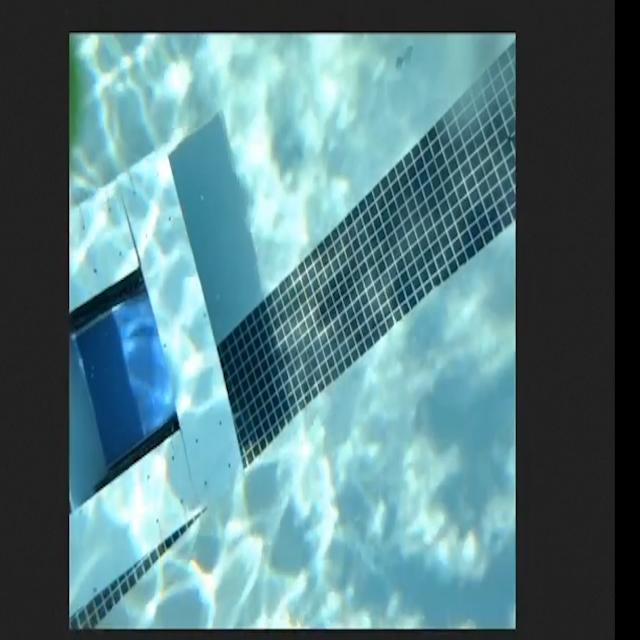Bin: (63, 138, 248, 618)
